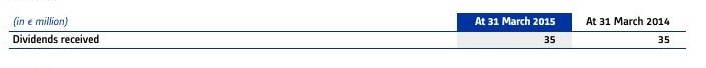table: (0, 0, 706, 68)
